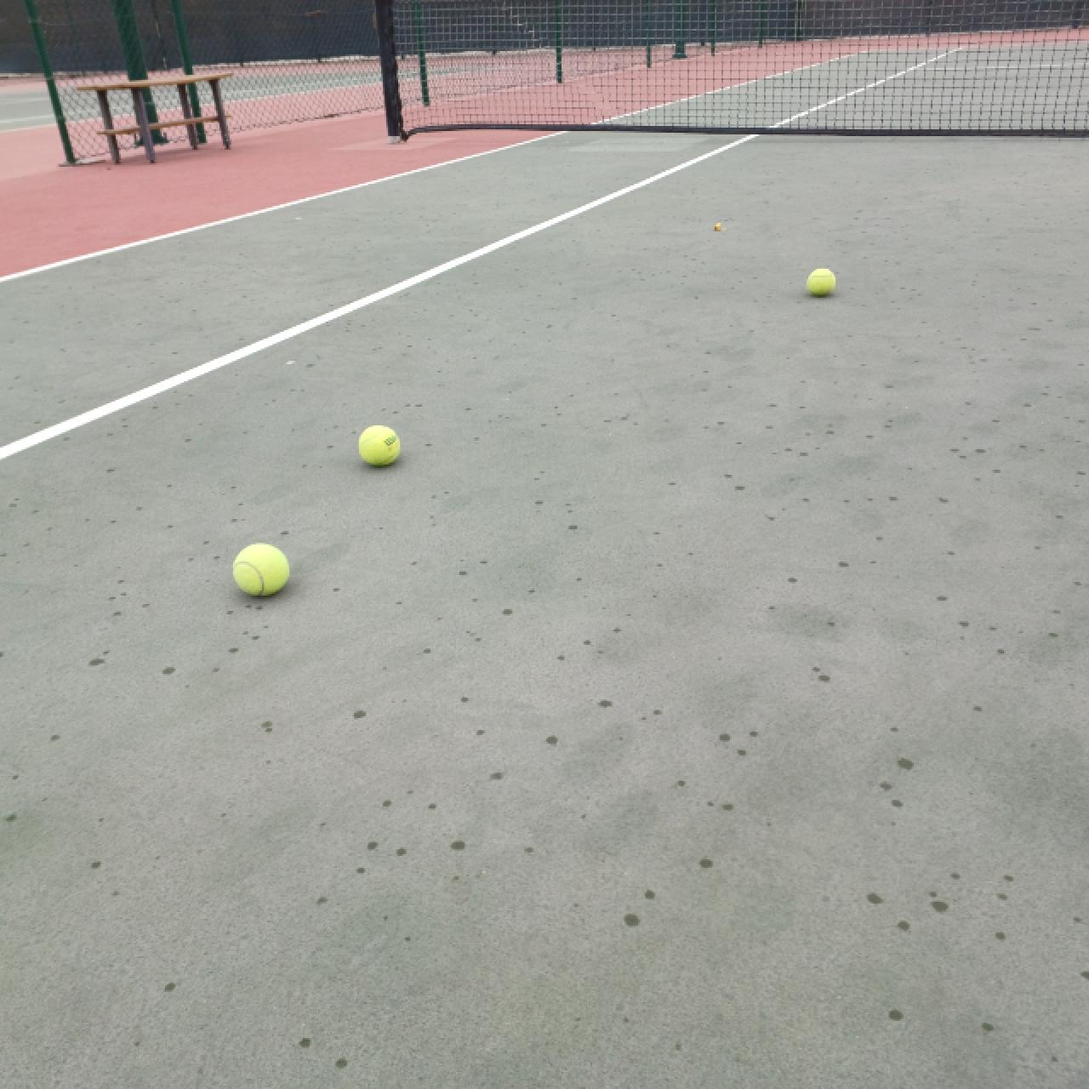tennis-ball: (233, 541, 291, 599), (357, 421, 401, 467), (804, 268, 840, 300)
